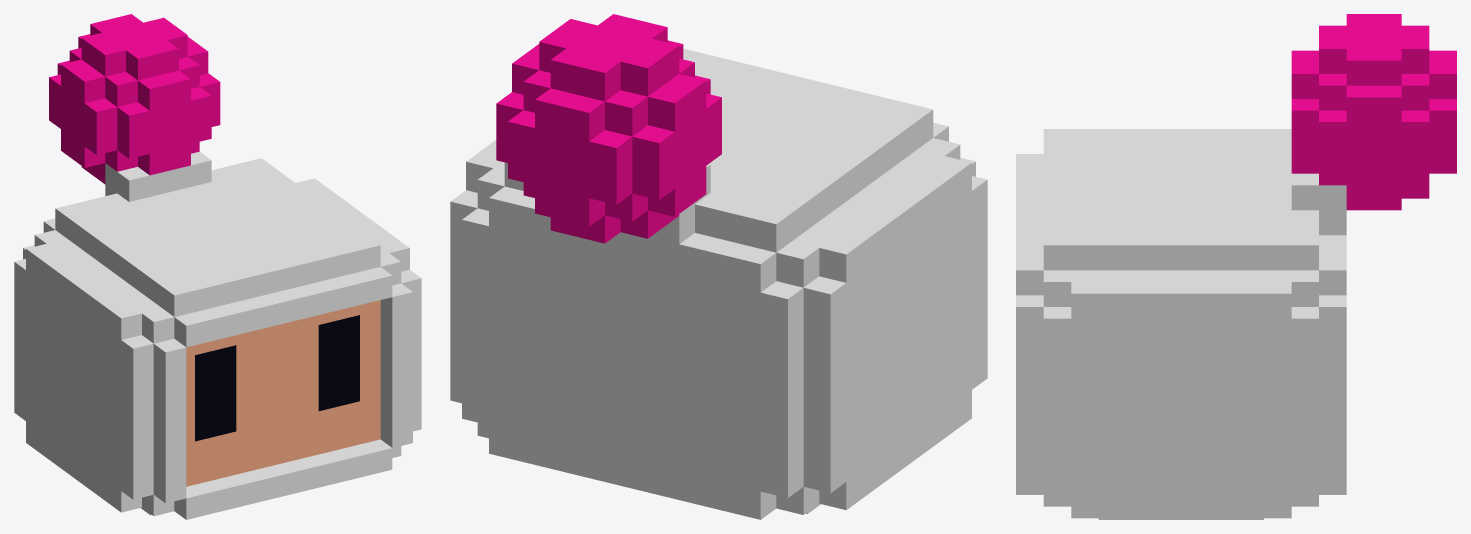
Rendered from BombFace.obj.
The picture shows the model from 3 angles, left to right: view 1: azimuth 30°, elevation 25°; view 2: azimuth 150°, elevation 25°; view 3: azimuth 270°, elevation 25°; orthographic projection. The views are drawn at different scales.
Parts seen in each view (by area): view 1: bomberman.002; view 2: bomberman.002; view 3: bomberman.002.
Boxes of the visible parts, box(x1,y1,x2,y2) form: bomberman.002: box(14, 14, 421, 519); bomberman.002: box(450, 14, 987, 519); bomberman.002: box(1016, 14, 1456, 519).
Bounding box in the file's own units: 1.4 × 1.7 × 1.6.
